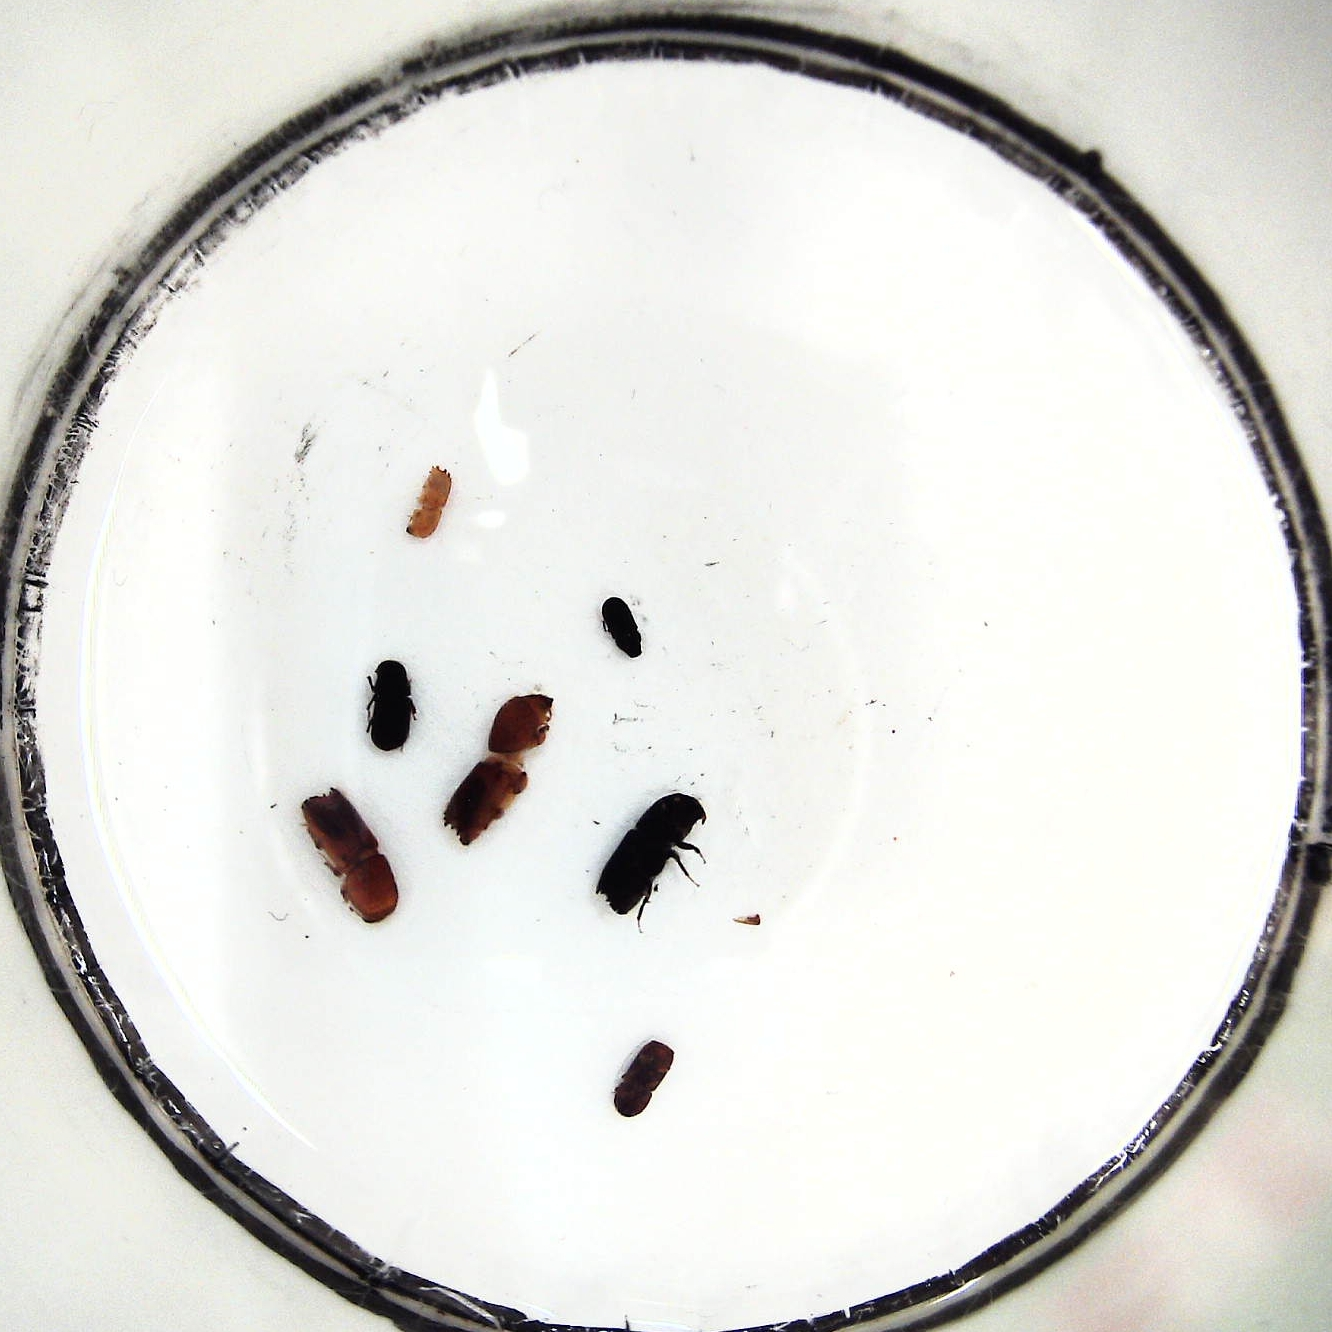Boerner: (437, 690, 556, 847), (593, 792, 705, 920), (298, 789, 399, 925)
Linnaeus: (612, 1039, 676, 1119)
acuminatus: (403, 462, 453, 540)
armandi: (362, 659, 415, 751)
coleoptera: (601, 590, 646, 662)
